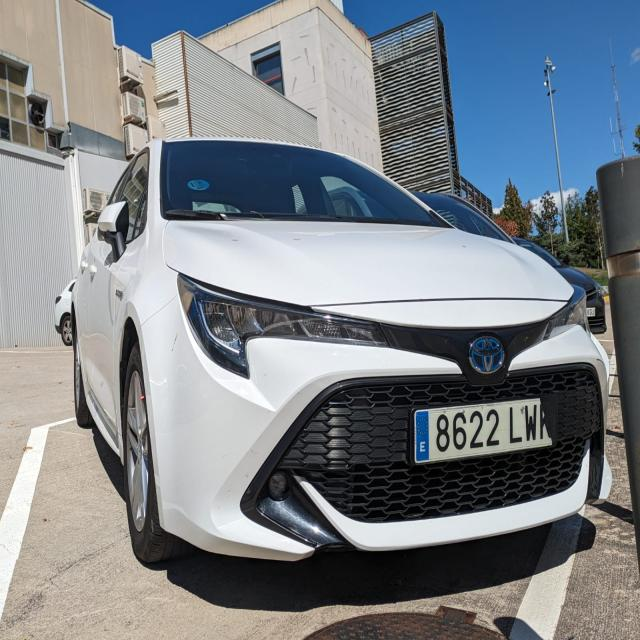plates: (414, 398, 556, 464)
